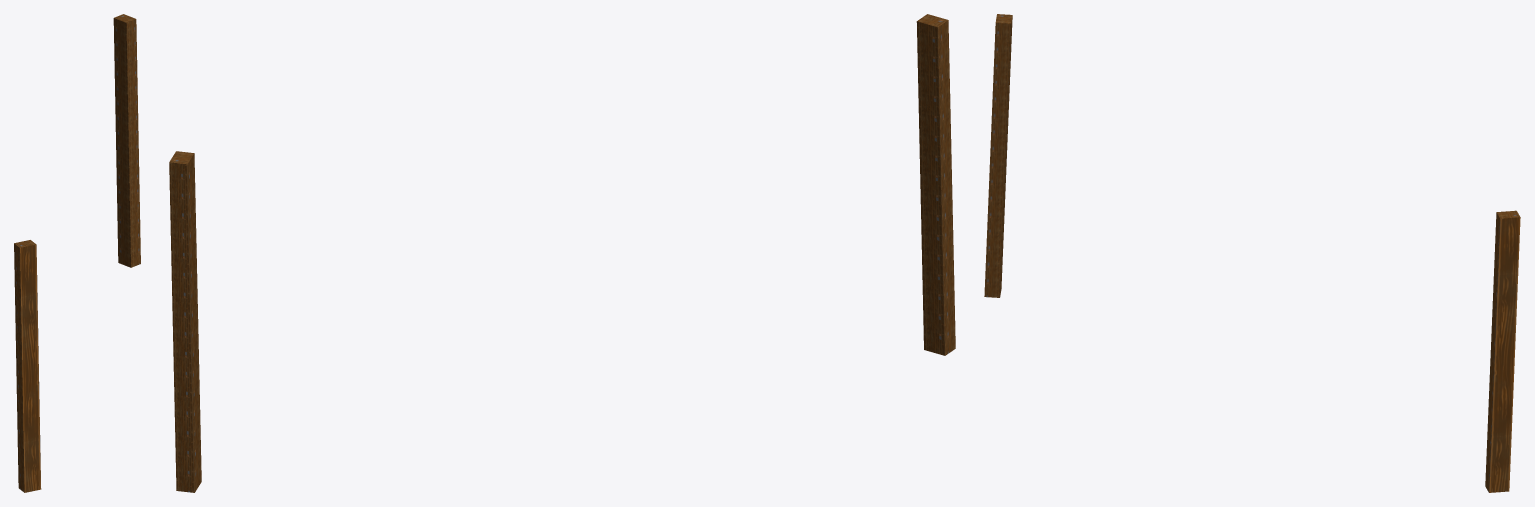
3 renders of one model, left to right at view 1: azimuth 30°, elevation 25°; view 2: azimuth 150°, elevation 25°; view 3: azimuth 270°, elevation 25°, orthographic. The views are drawn at different scales.
Parts seen in each view (by area): view 1: Cube.2088; view 2: Cube.2088; view 3: Cube.2088.
Boxes of the visible parts, x1,y1,x2,y2 form: Cube.2088: (14, 14, 140, 492); Cube.2088: (169, 14, 955, 492); Cube.2088: (984, 14, 1520, 492).
Bounding box in the file's own units: 1178 × 857 × 1424.
1 material, 1 textured.
